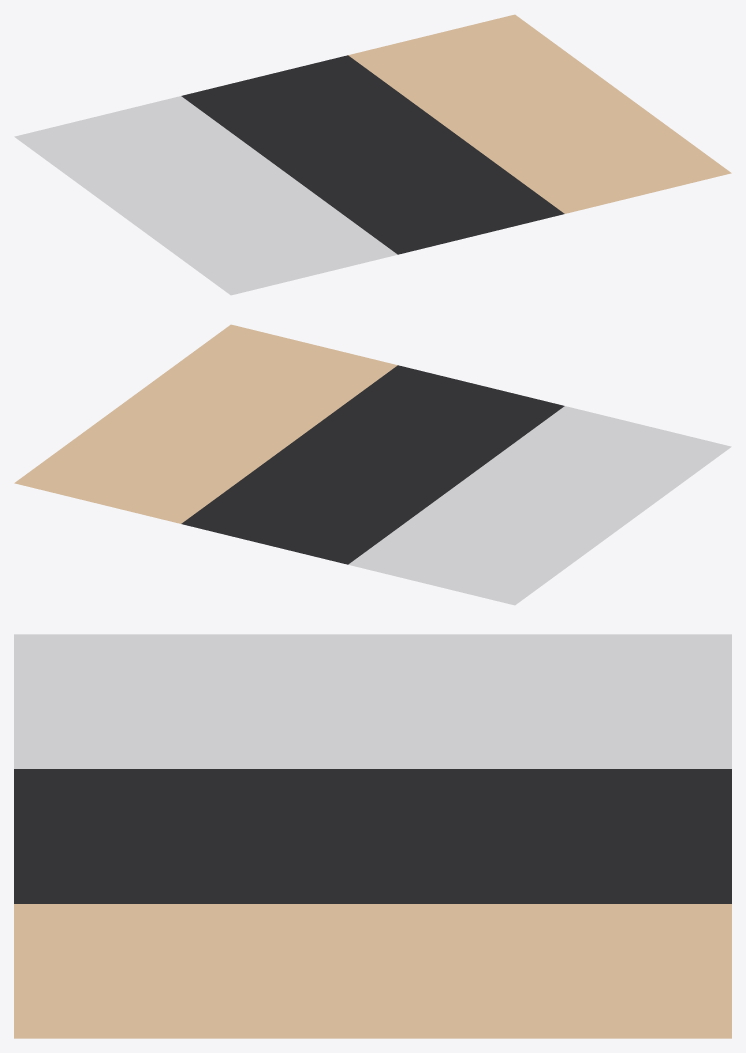
The model's file is gloss.gltf.
The picture shows the model from 3 angles, top to bottom: view 1: azimuth 30°, elevation 25°; view 2: azimuth 150°, elevation 25°; view 3: azimuth 270°, elevation 25°; orthographic projection. The views are drawn at different scales.
Visible parts, largest first — view 1: Glossy floor; view 2: Glossy floor; view 3: Glossy floor.
Boxes of the visible parts, x1,y1,x2,y2 form: Glossy floor: [14, 14, 731, 295]; Glossy floor: [14, 324, 731, 605]; Glossy floor: [14, 634, 731, 1038].
Bounding box in the file's own units: 8 × 0 × 6.
